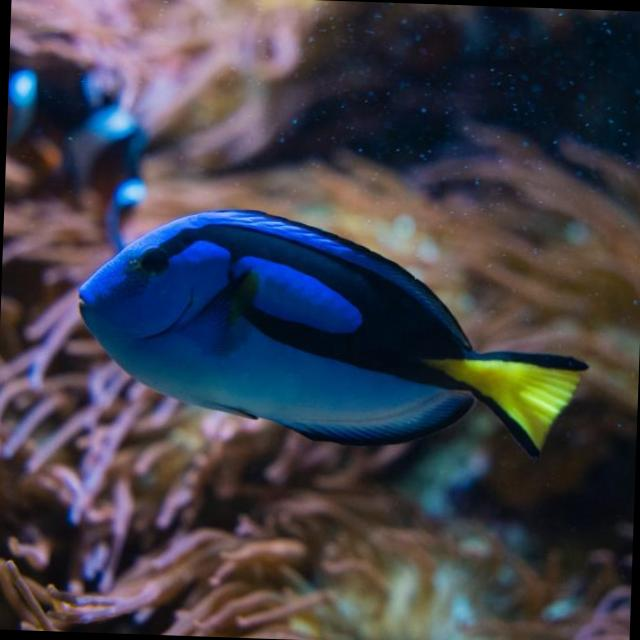BlueTang: (70, 202, 584, 459)
